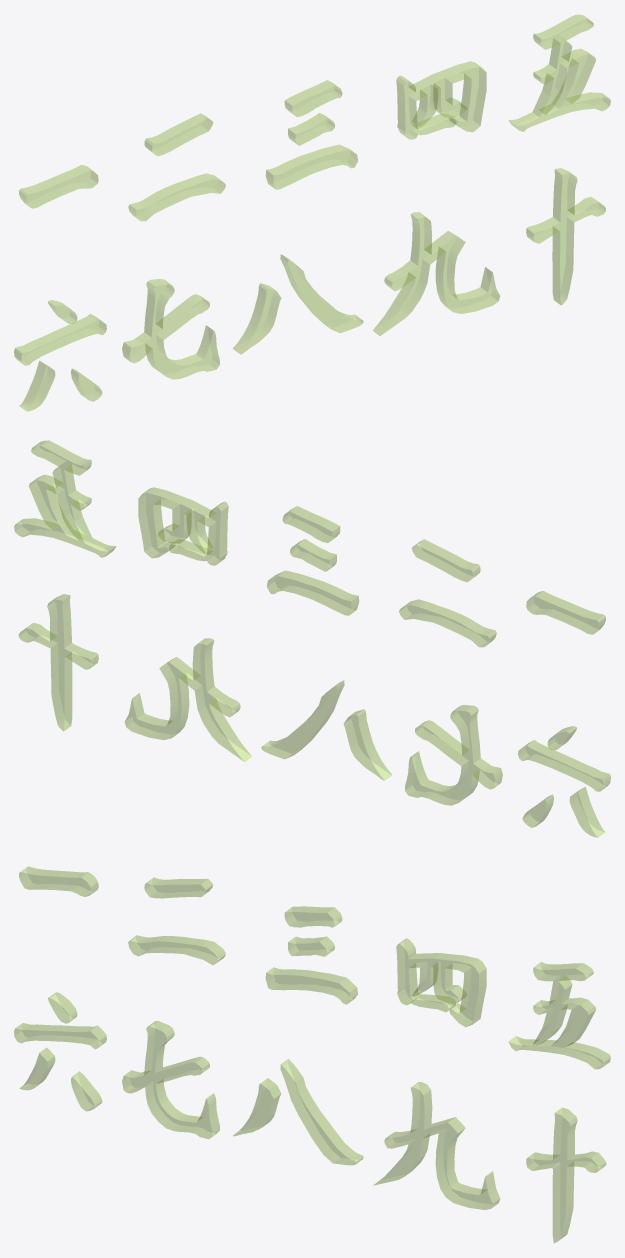
The model's file is numbers_transparent_fbx.fbx.
The picture shows the model from 3 angles, top to bottom: view 1: azimuth 30°, elevation 25°; view 2: azimuth 150°, elevation 25°; view 3: azimuth 330°, elevation 25°; orthographic projection.
Parts seen in each view (by area): view 1: nine, four, five, seven, three, ten, six, eight, two, one; view 2: nine, four, five, seven, three, ten, six, eight, two, one; view 3: nine, four, five, seven, three, eight, ten, six, two, one.
Boxes of the visible parts, left/top/right/bottom form: nine: left=373, top=212, right=499, bottom=335; four: left=396, top=61, right=486, bottom=139; five: left=508, top=14, right=610, bottom=131; seven: left=122, top=279, right=219, bottom=379; three: left=265, top=80, right=357, bottom=189; ten: left=526, top=168, right=605, bottom=305; six: left=14, top=300, right=106, bottom=411; eight: left=233, top=254, right=363, bottom=354; two: left=128, top=113, right=225, bottom=221; one: left=19, top=165, right=98, bottom=208; nine: left=125, top=638, right=251, bottom=761; four: left=138, top=487, right=228, bottom=565; five: left=14, top=440, right=116, bottom=557; seven: left=405, top=705, right=502, bottom=805; three: left=267, top=506, right=359, bottom=615; ten: left=18, top=594, right=98, bottom=731; six: left=518, top=726, right=610, bottom=837; eight: left=261, top=680, right=391, bottom=780; two: left=399, top=539, right=496, bottom=647; one: left=526, top=591, right=605, bottom=634; nine: left=373, top=1082, right=500, bottom=1209; four: left=396, top=938, right=486, bottom=1026; five: left=508, top=962, right=610, bottom=1069; seven: left=122, top=1021, right=219, bottom=1139; three: left=265, top=906, right=357, bottom=1004; eight: left=233, top=1059, right=363, bottom=1165; ten: left=526, top=1107, right=606, bottom=1242; six: left=14, top=992, right=106, bottom=1111; two: left=128, top=877, right=225, bottom=964; one: left=19, top=866, right=98, bottom=896.
Size of the model in its own units: 5.87 by 2.67 by 0.1326.
